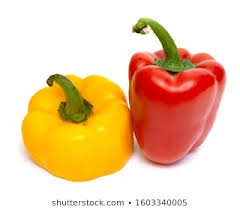bell pepper: (112, 20, 220, 168), (15, 64, 136, 190)
